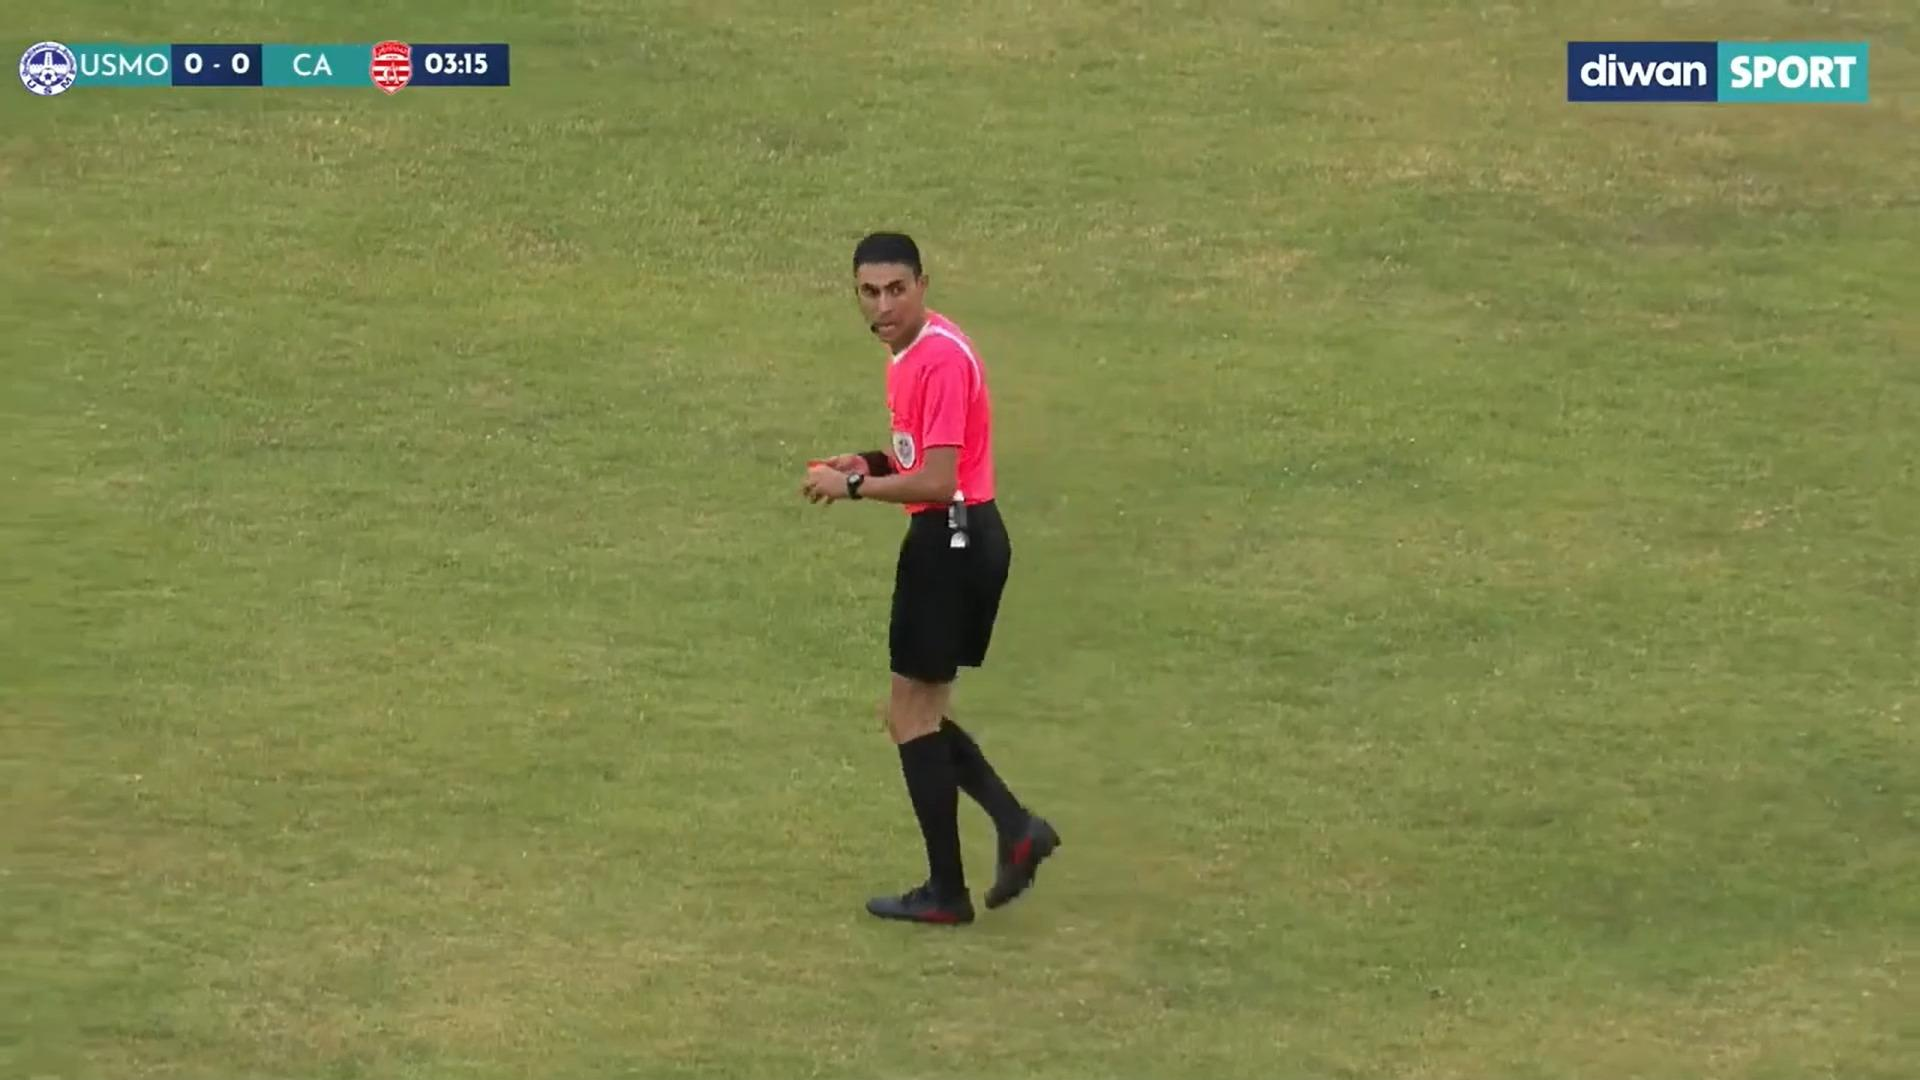referee: (773, 200, 1104, 951)
